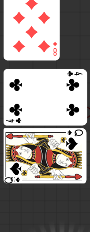4C: (6, 116, 23, 124)
8D: (52, 40, 59, 57)
